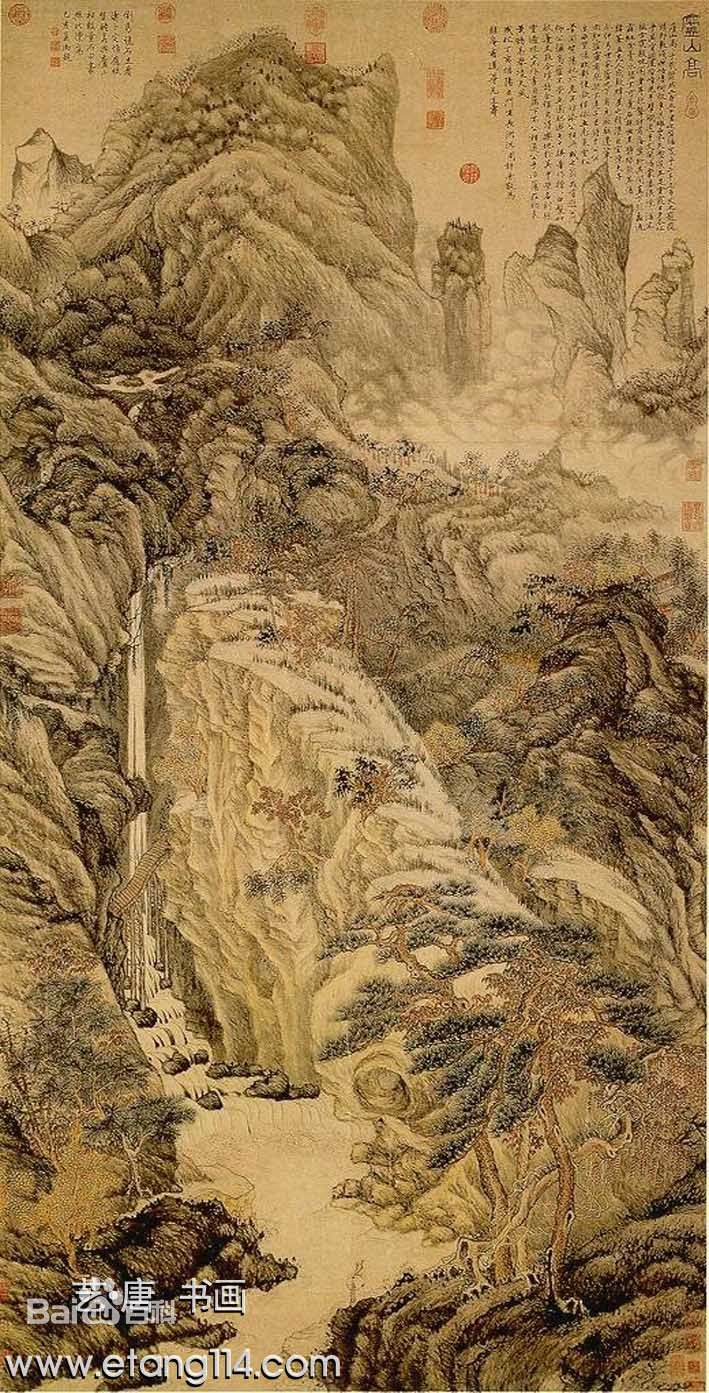bridge: (113, 868, 151, 907), (151, 842, 163, 871)
creek: (224, 1269, 335, 1338), (246, 1158, 329, 1250), (193, 1104, 335, 1155), (145, 997, 198, 1105), (335, 1223, 440, 1266), (216, 1079, 250, 1092)
mountain: (2, 528, 117, 873), (248, 170, 403, 345), (155, 578, 281, 788), (5, 233, 207, 359), (166, 792, 253, 983), (513, 260, 613, 425), (256, 901, 321, 1076), (109, 125, 389, 164), (69, 361, 237, 426), (91, 165, 245, 232), (283, 669, 398, 755), (150, 87, 393, 124), (617, 248, 684, 375), (407, 295, 485, 384), (18, 140, 82, 212), (203, 986, 250, 1069), (210, 237, 243, 354), (196, 63, 332, 88), (589, 177, 627, 262), (442, 226, 484, 294), (253, 37, 289, 65), (546, 231, 577, 260), (373, 60, 391, 85)
tree: (501, 939, 583, 1101), (32, 943, 105, 1113), (227, 522, 393, 581), (427, 1030, 492, 1165), (99, 1108, 189, 1187), (545, 1122, 571, 1298), (235, 520, 310, 581), (11, 459, 92, 513), (355, 989, 462, 1025), (481, 1168, 517, 1270), (388, 892, 463, 937), (606, 1004, 675, 1040), (24, 1115, 67, 1168), (616, 1099, 680, 1134), (264, 796, 312, 836), (322, 1029, 382, 1061), (250, 862, 310, 892), (585, 1116, 631, 1154), (18, 406, 56, 447), (349, 771, 389, 808), (460, 448, 521, 471), (587, 1058, 645, 1082), (584, 978, 646, 1000), (325, 933, 393, 951), (345, 584, 362, 654), (478, 917, 536, 936), (397, 751, 412, 788), (457, 947, 503, 958), (402, 953, 422, 966)
waterfall: (127, 596, 148, 778), (133, 820, 147, 859), (150, 939, 155, 977)
